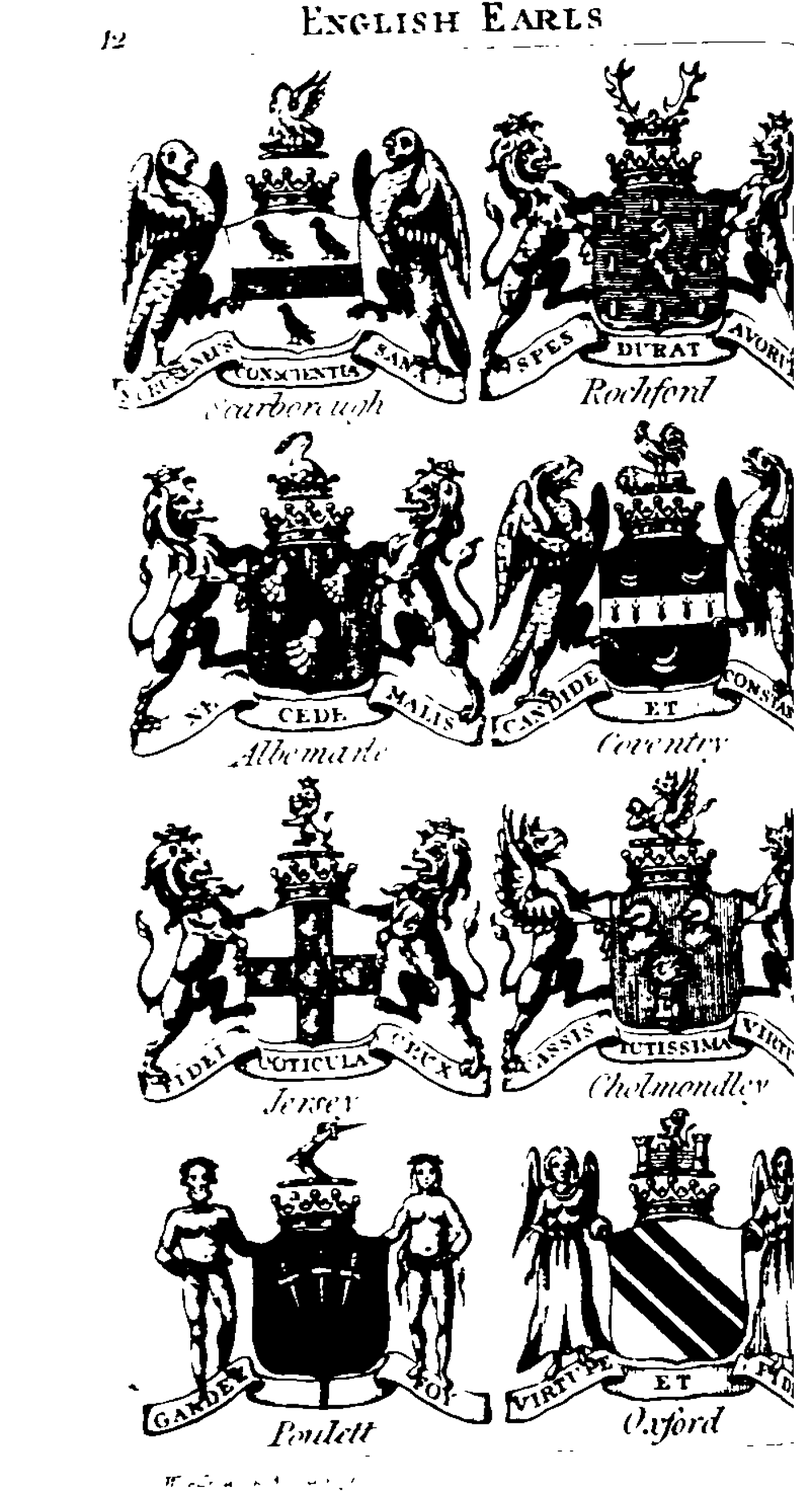coat_of_arms: (105, 1117, 496, 1467), (99, 69, 472, 435), (113, 776, 491, 1123), (108, 439, 487, 771), (472, 63, 805, 424), (490, 1105, 802, 1456), (486, 770, 802, 1113), (481, 432, 801, 763)
